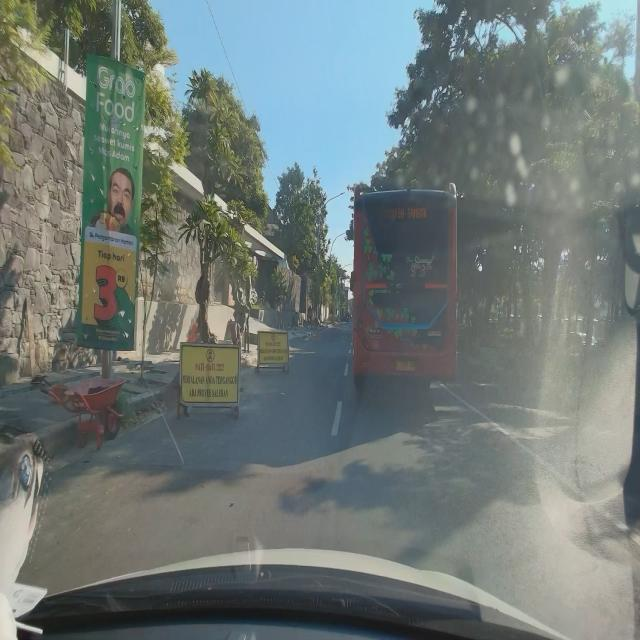bus: (352, 181, 457, 395)
license-plate: (395, 359, 416, 373)
